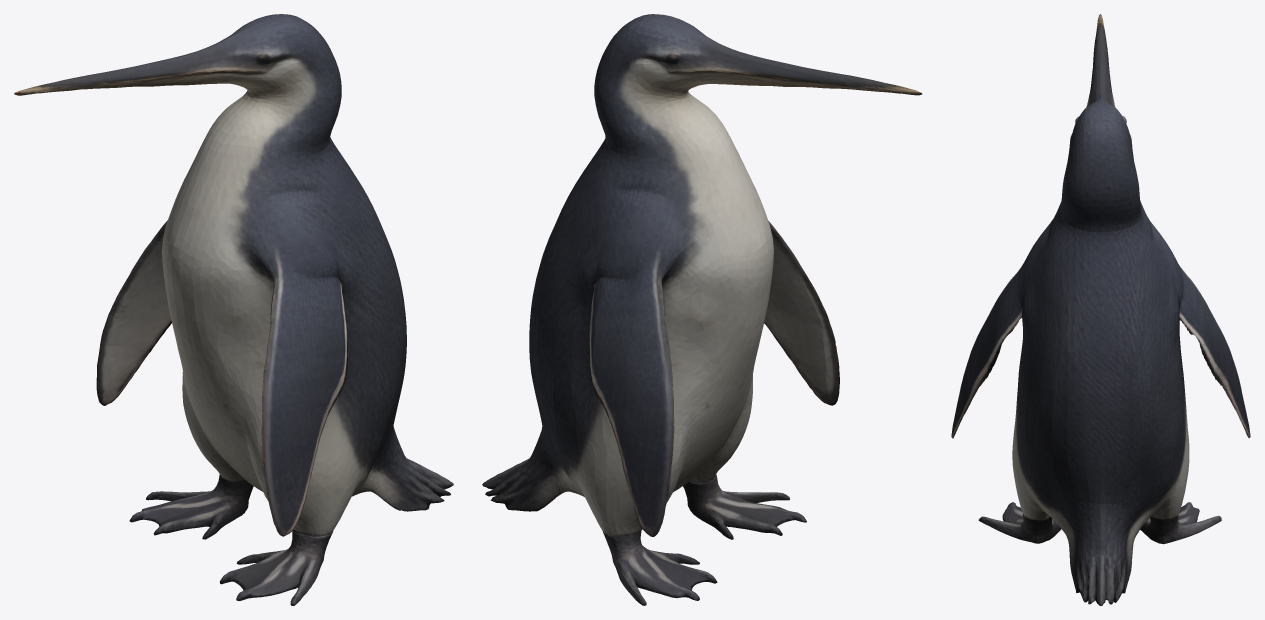
The picture shows the model from 3 angles, left to right: view 1: azimuth 30°, elevation 25°; view 2: azimuth 150°, elevation 25°; view 3: azimuth 270°, elevation 25°; orthographic projection. The views are drawn at different scales.
Parts seen in each view (by area): view 1: world; view 2: world; view 3: world.
Boxes of the visible parts, x1,y1,x2,y2 form: world: (14, 14, 453, 605); world: (482, 14, 922, 605); world: (951, 14, 1250, 605).
Size of the model in its own units: 0.8848 by 1 by 0.6278.
Materials: 1 (1 with a texture image).
